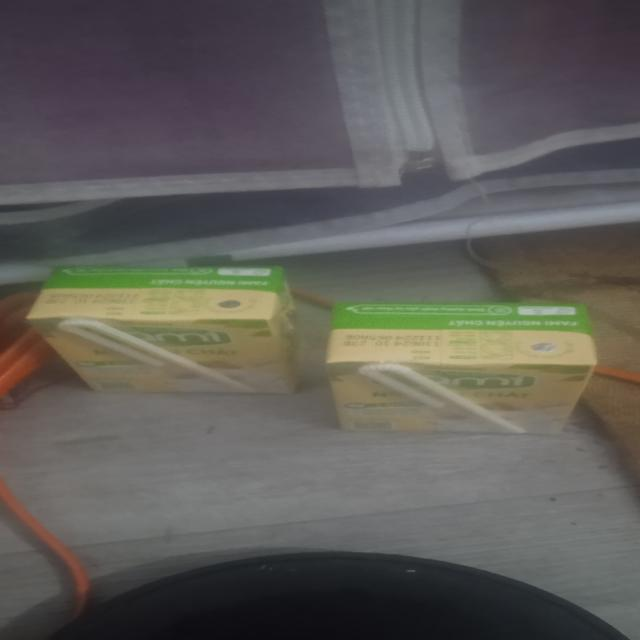Fami: (328, 301, 598, 435), (35, 268, 295, 398)
